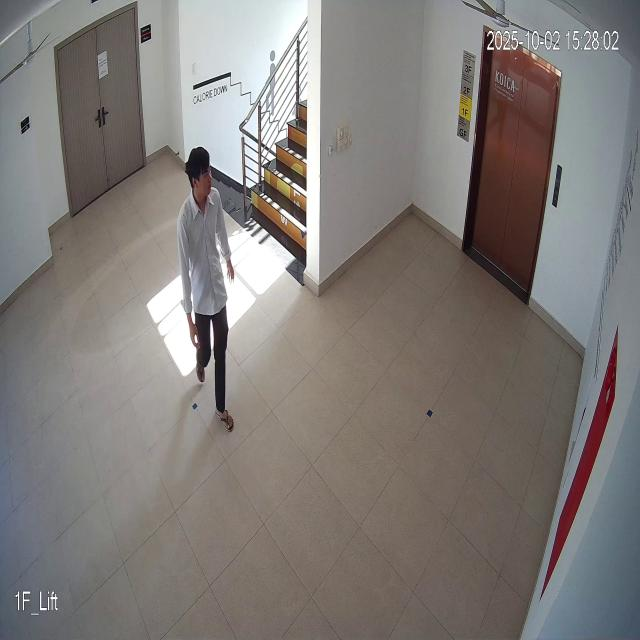face: (184, 145, 218, 202)
